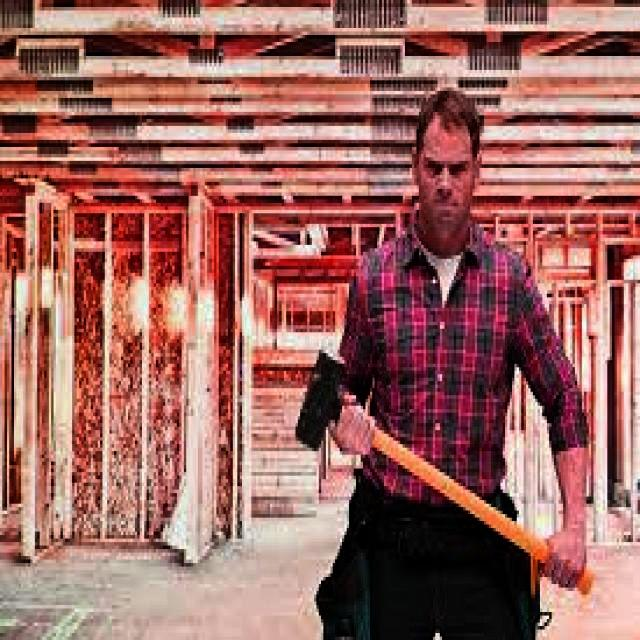hammer: (284, 344, 598, 600)
